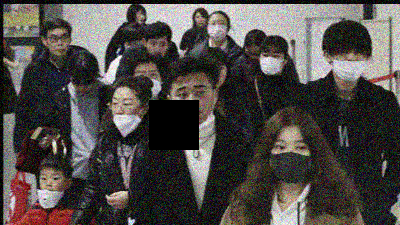mask_weared_incorrect: (172, 80, 216, 124), (112, 94, 142, 128), (39, 170, 66, 197)
with_mask: (266, 135, 313, 185), (330, 44, 368, 83), (133, 66, 164, 99), (259, 47, 285, 75), (207, 17, 228, 42)
without_mask: (45, 30, 72, 55), (145, 37, 169, 58), (71, 78, 96, 94), (246, 44, 263, 62), (194, 12, 208, 28), (135, 8, 147, 23)
